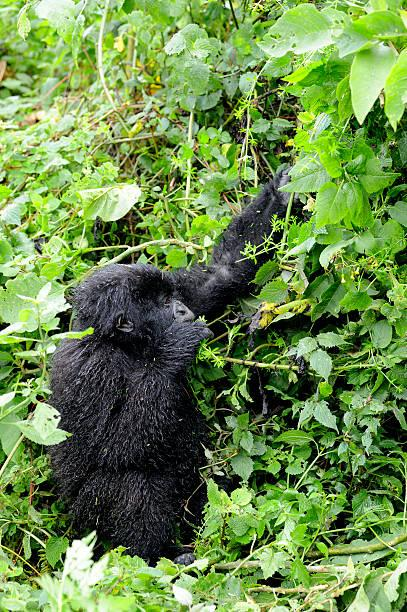goriile_montagne: (49, 253, 238, 560)
